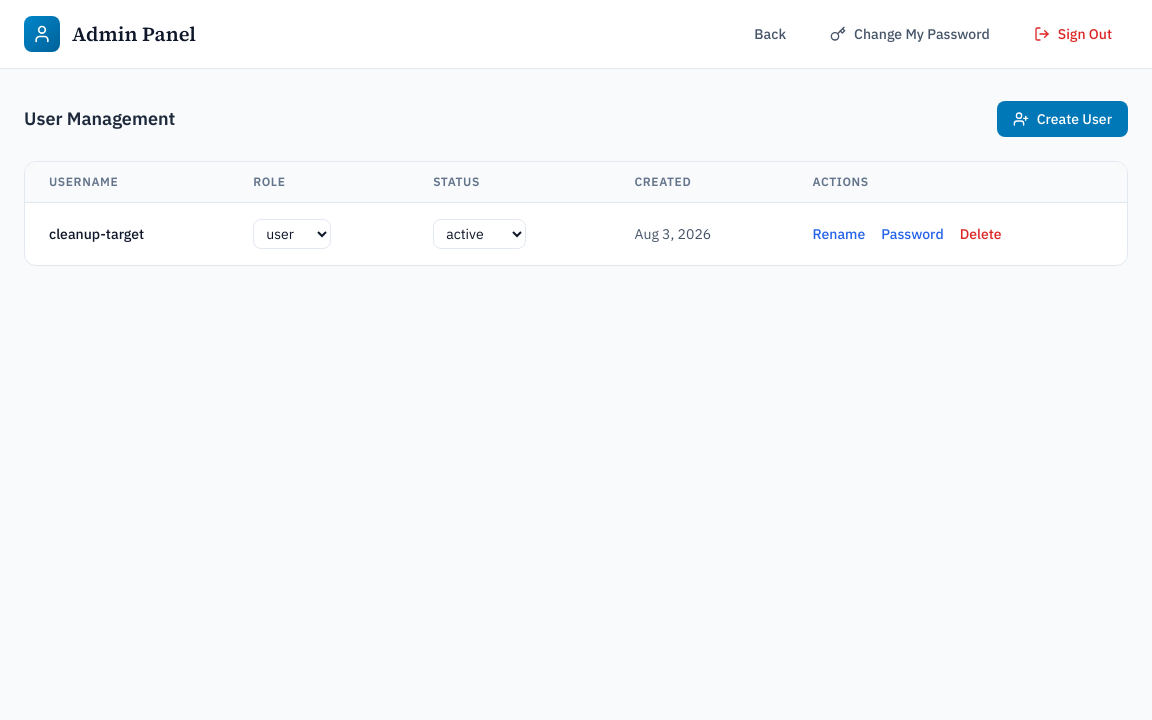
Test: Admin deleting account state › refreshes the row into deleting state after retryable cleanup conflict
Check: the text "cleanup-target" is shown, box left=49, top=225, right=144, bottom=243
Click the button "Delete" at (981, 234), box left=960, top=224, right=1002, bottom=244
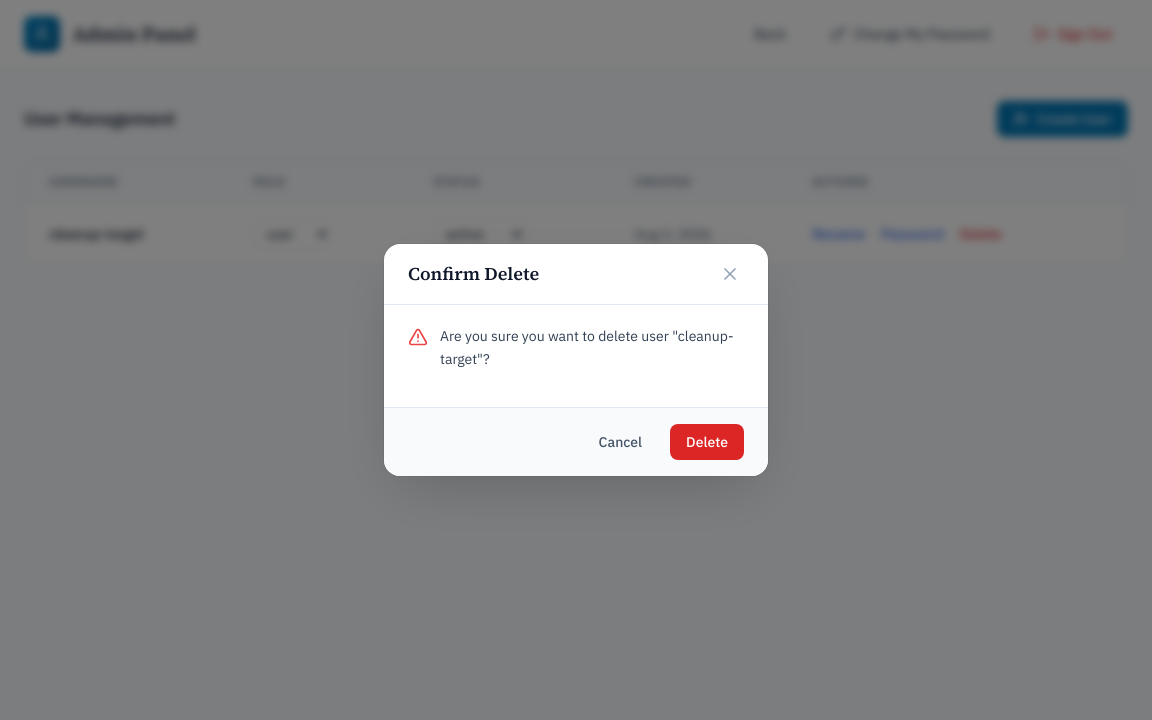
Click the button "Delete" at (707, 442), box left=670, top=424, right=744, bottom=460
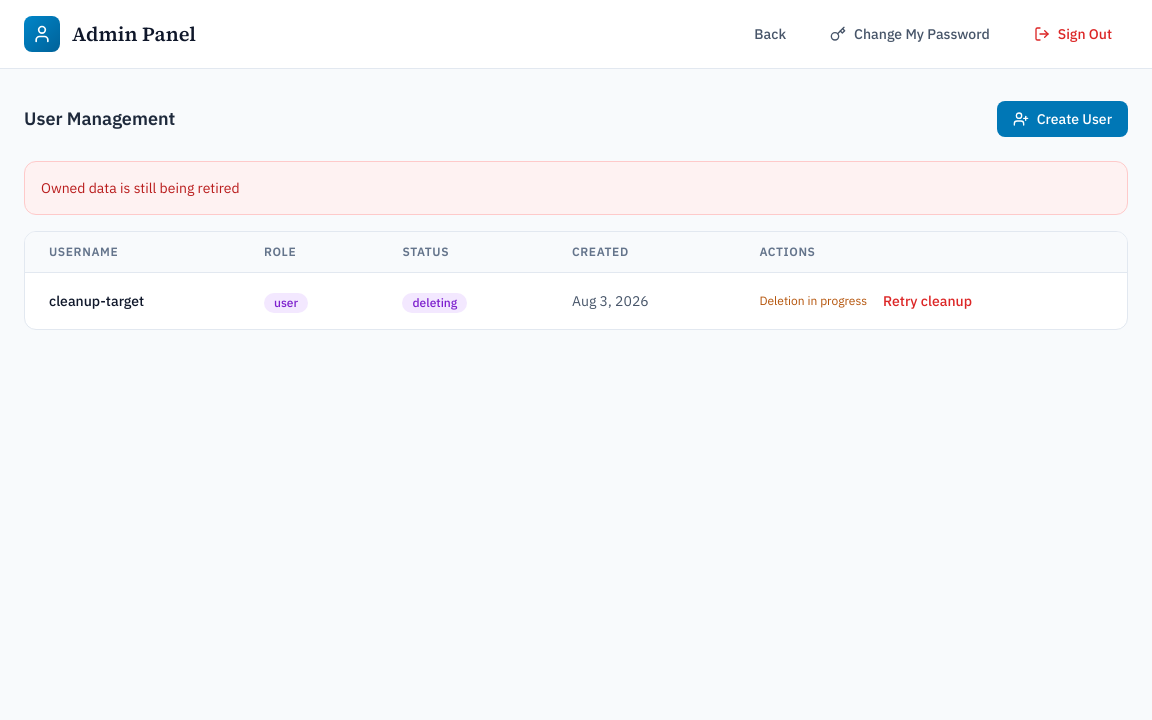
Check: the text "Deletion in progress" is shown, box left=759, top=293, right=867, bottom=309
Check: the text "Owned data is still being retired" is shown, box left=24, top=161, right=1128, bottom=215
Check: the dropdown is gone
